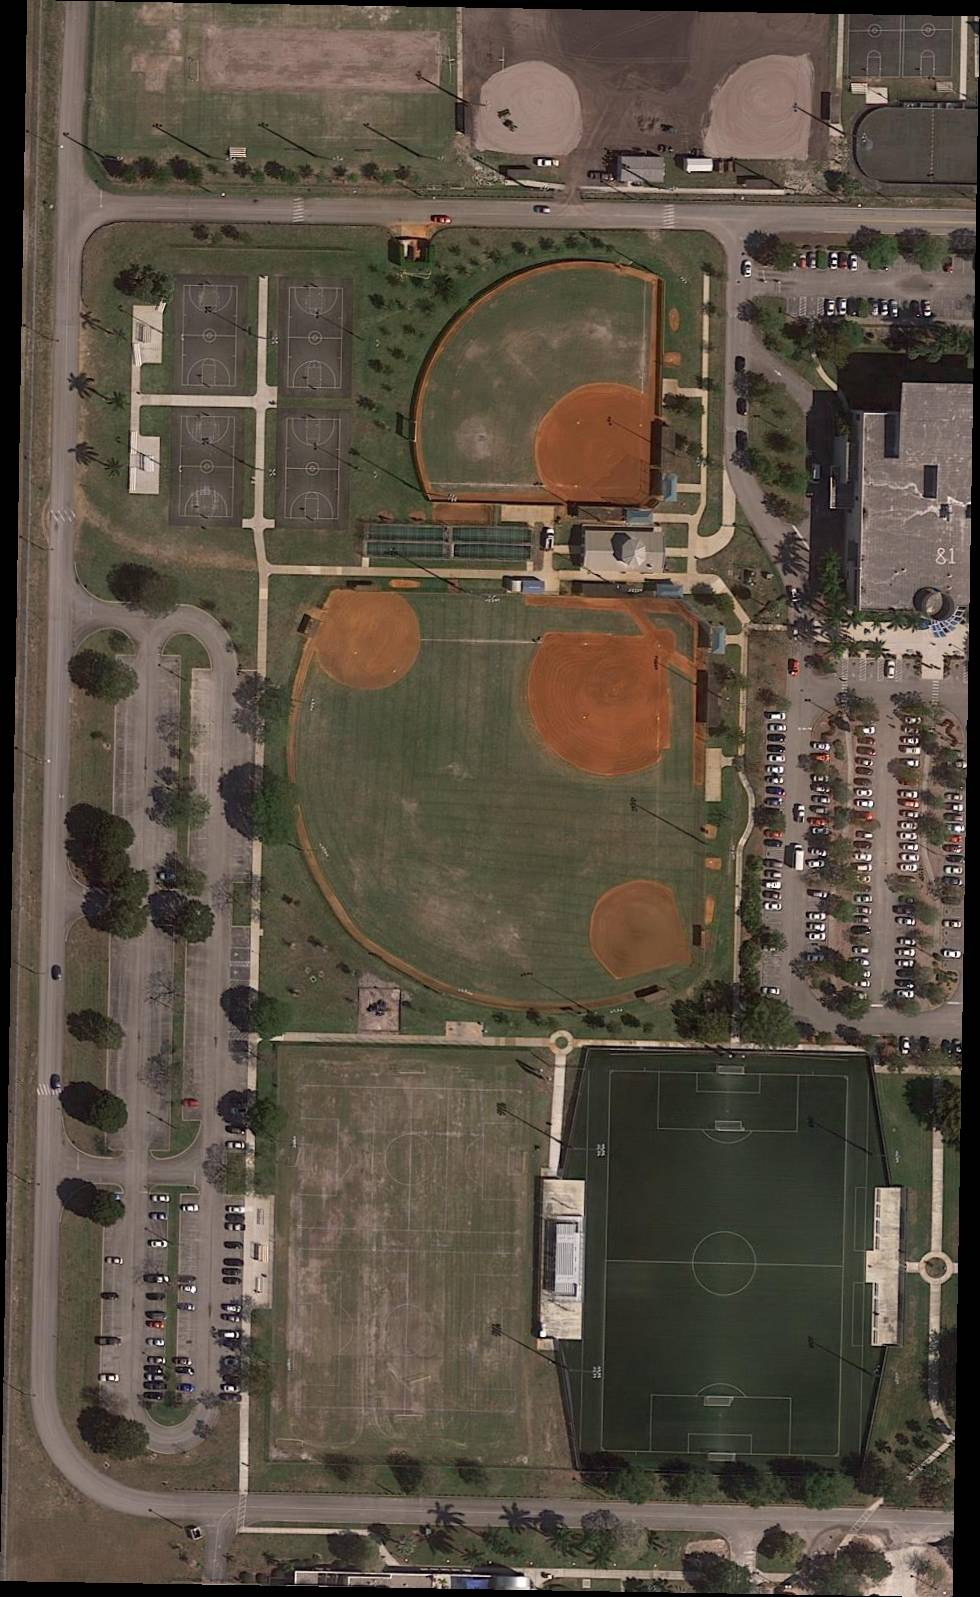baseball diamond: (524, 640, 661, 778), (533, 383, 643, 489), (581, 874, 685, 983), (335, 600, 421, 694)
basketball court: (287, 287, 345, 389), (179, 416, 235, 517), (285, 419, 341, 519), (183, 285, 238, 386)
soccer ball field: (601, 1060, 848, 1468), (291, 1069, 531, 1429), (293, 1084, 528, 1255), (293, 1270, 523, 1414)
